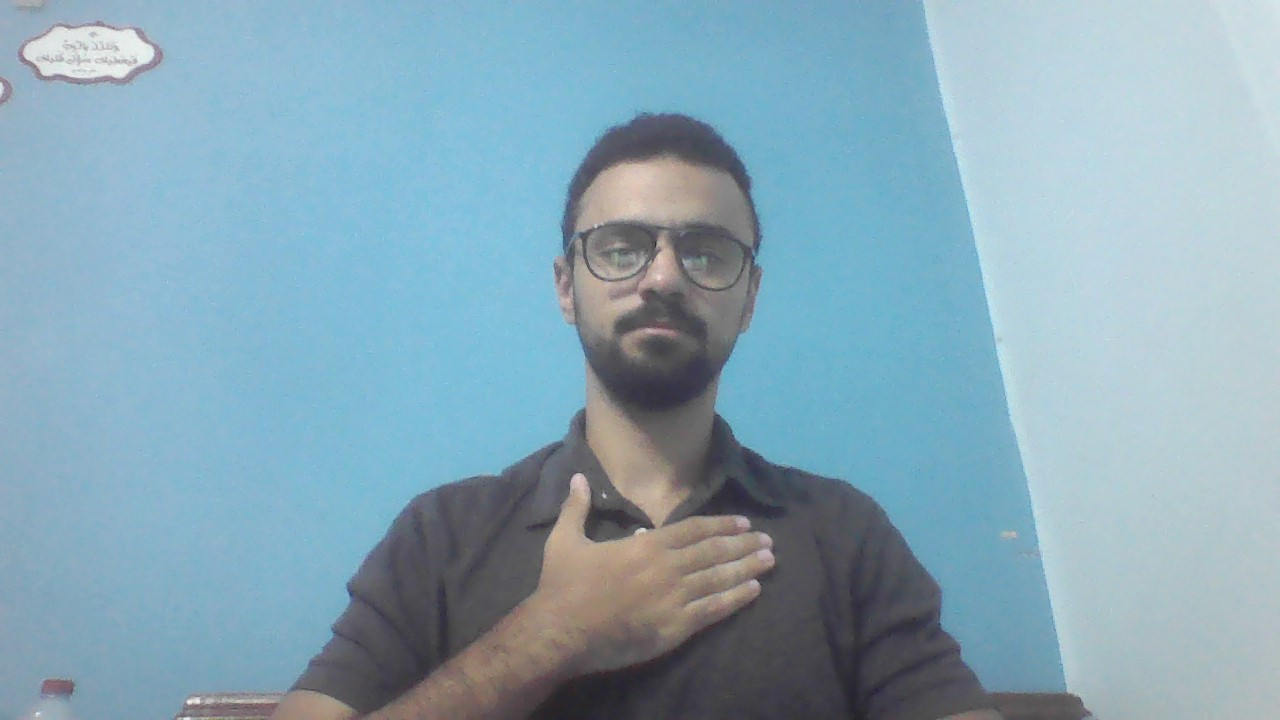please: (532, 467, 782, 669)
